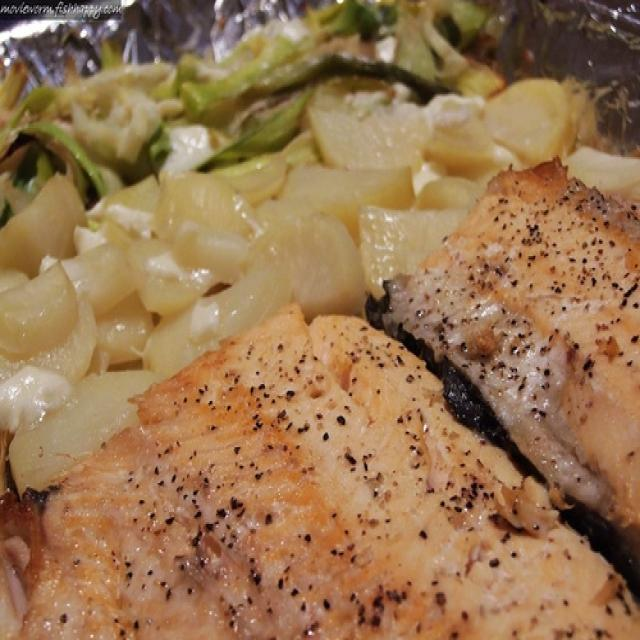熟制海鲜: (1, 5, 634, 637)
